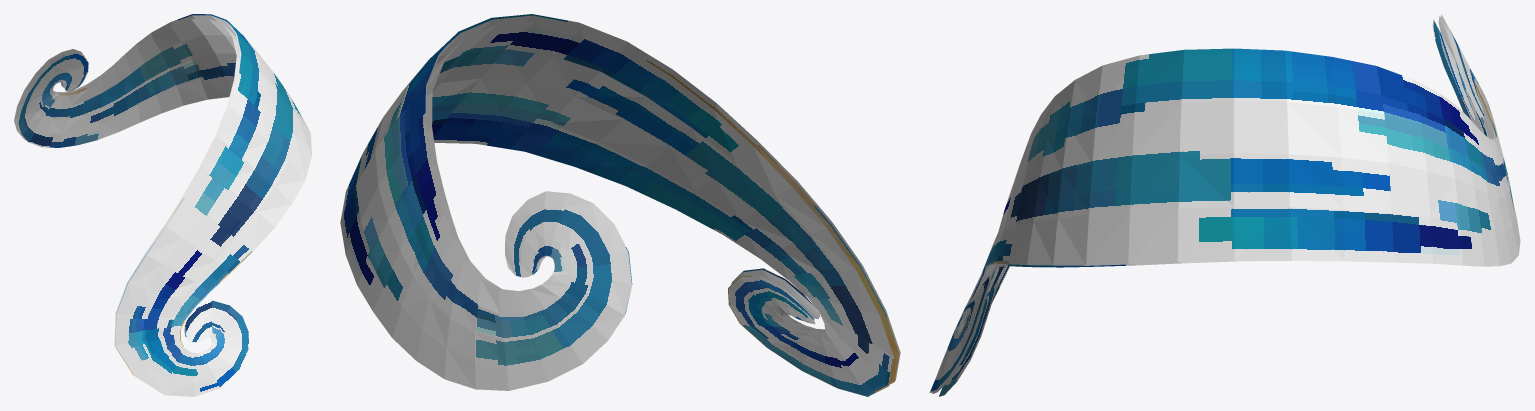
Rendered from CharSkyKid_Neck_AP31StarryStrokes.glb.
3 views of the same model, side by side, from view 1: azimuth 30°, elevation 25°; view 2: azimuth 150°, elevation 25°; view 3: azimuth 270°, elevation 25° (orthographic). The views are drawn at different scales.
Parts seen in each view (by area): view 1: CharSkyKid_Neck_AP31StarryStrokes; view 2: CharSkyKid_Neck_AP31StarryStrokes; view 3: CharSkyKid_Neck_AP31StarryStrokes.
Boxes of the visible parts, x1,y1,x2,y2 form: CharSkyKid_Neck_AP31StarryStrokes: [14, 14, 311, 396]; CharSkyKid_Neck_AP31StarryStrokes: [340, 14, 900, 396]; CharSkyKid_Neck_AP31StarryStrokes: [929, 14, 1520, 396].
Size of the model in its own units: 5.99 by 6 by 7.24.
1 material, 1 textured.
